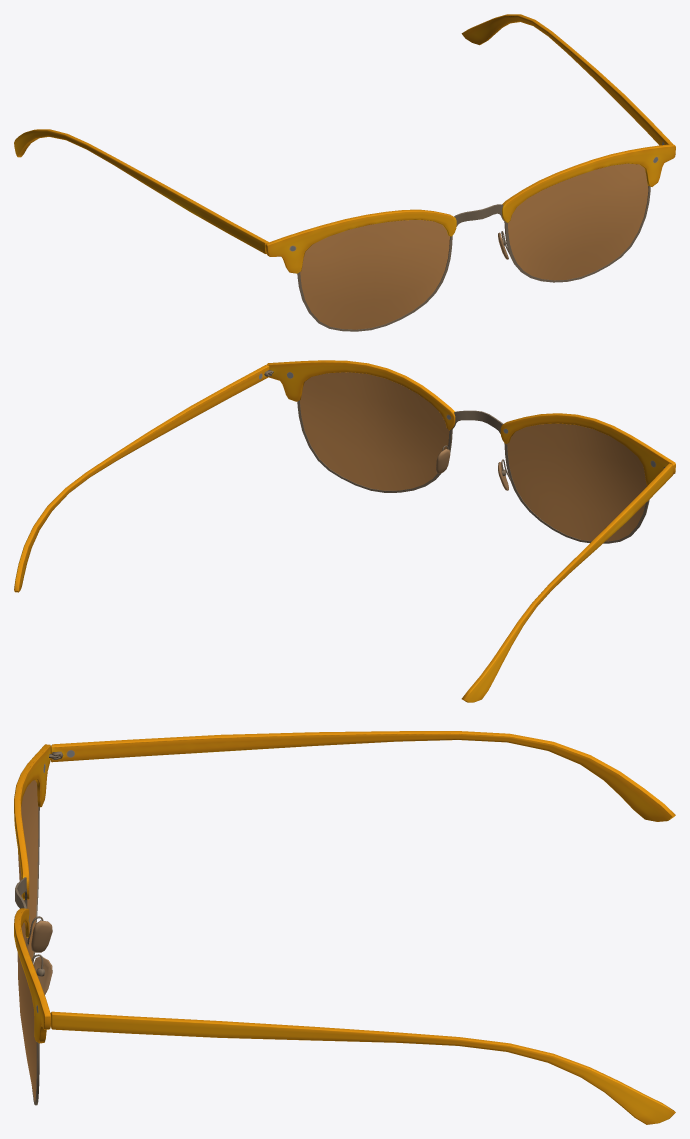
Rendered from glasses.glb.
3 renders of one model, top to bottom at view 1: azimuth 30°, elevation 25°; view 2: azimuth 150°, elevation 25°; view 3: azimuth 270°, elevation 25°, orthographic. The views are drawn at different scales.
Visible parts, largest first — view 1: Glasses_silver; view 2: Glasses_silver; view 3: Glasses_silver.
Boxes of the visible parts, left/top/right/bottom form: Glasses_silver: left=14, top=14, right=675, bottom=331; Glasses_silver: left=14, top=360, right=675, bottom=702; Glasses_silver: left=14, top=731, right=675, bottom=1124.
Bounding box in the file's own units: 0.1637 × 0.0395 × 0.145.
Materials: 1 (1 with a texture image).
